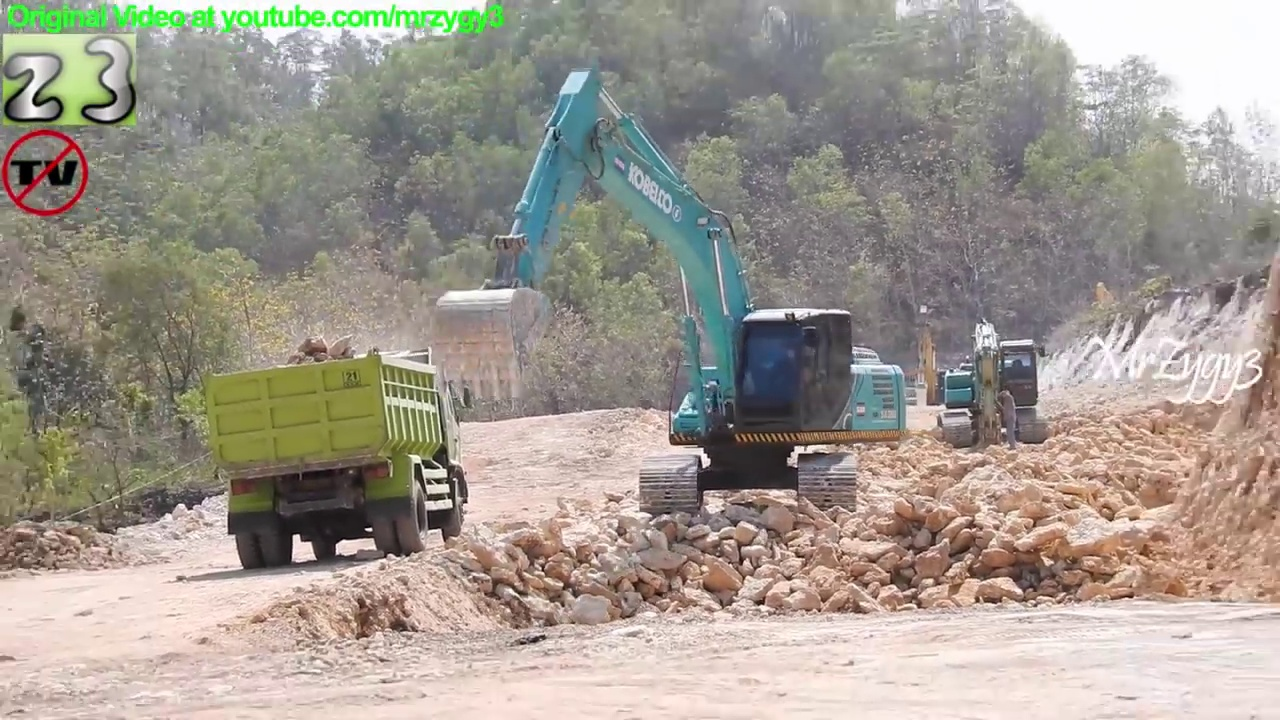excavator: (427, 64, 912, 524), (889, 316, 971, 426)
excavator breaker: (936, 316, 1053, 459)
truck: (202, 344, 475, 576)
worker: (991, 383, 1027, 455)
